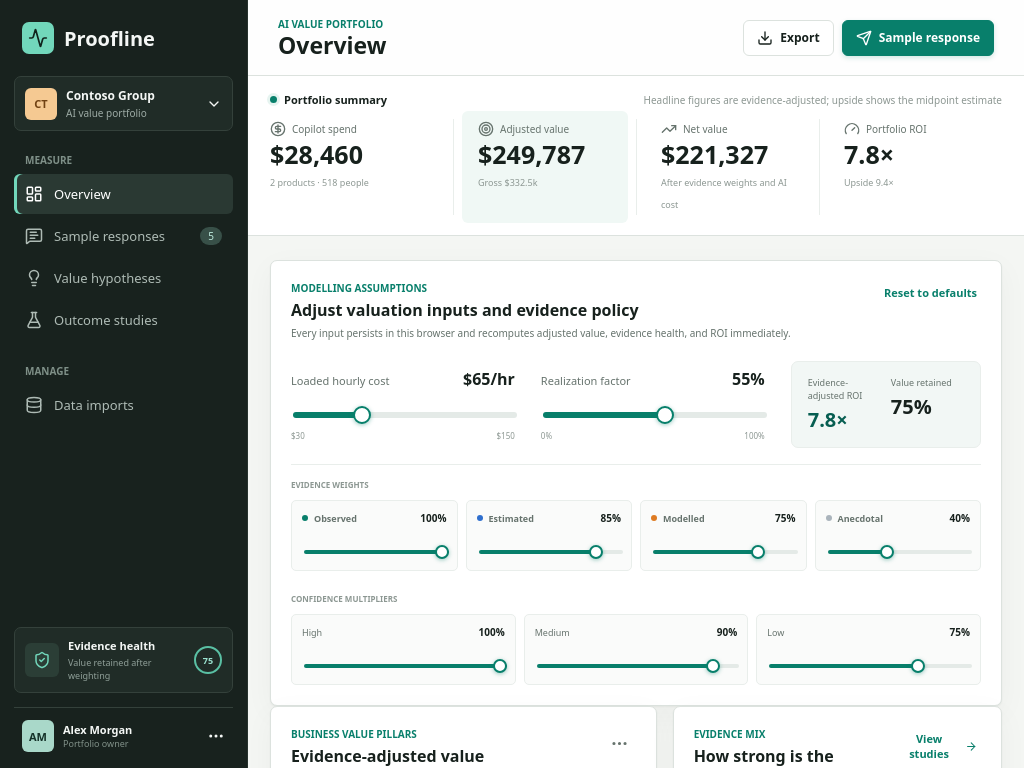
Test case: Editable valuation policy › exports a portfolio snapshot
Click the button "Export" at x=788, y=38, box [743,20,834,56]
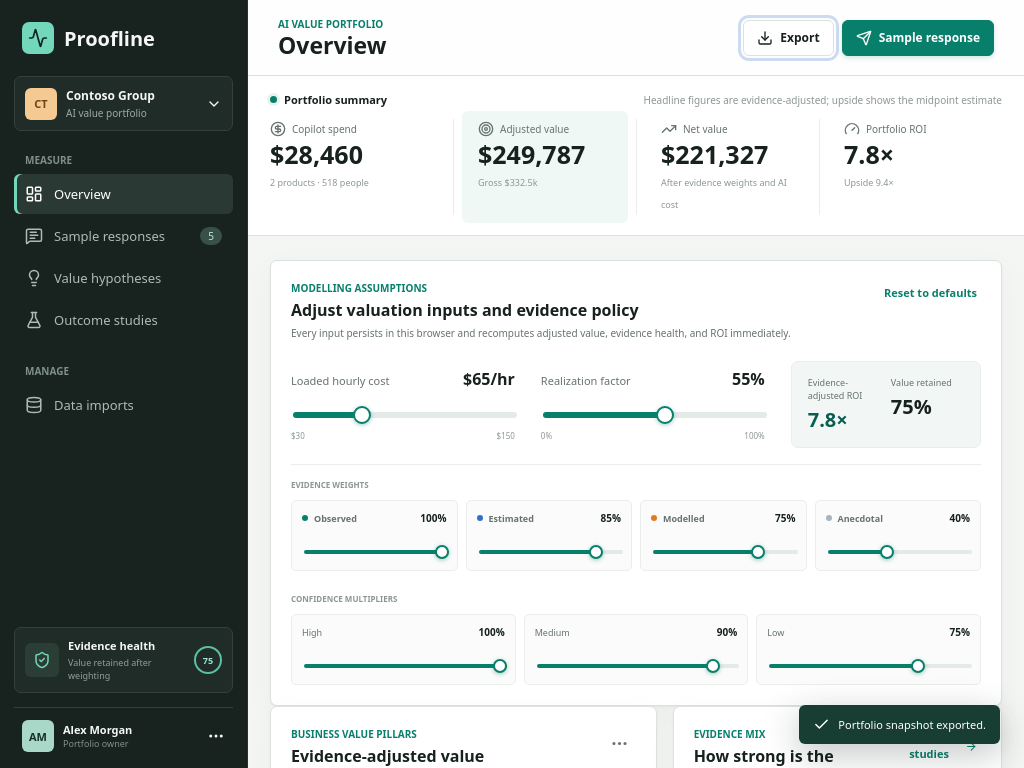
Check: the text "Portfolio snapshot exported." is shown, box [799,705,1000,744]
